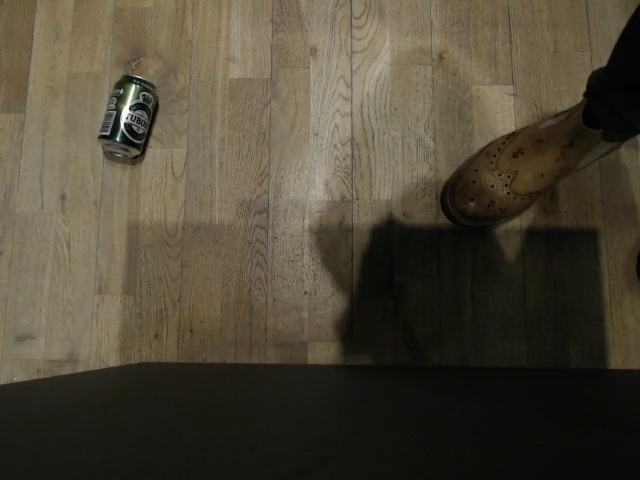beer: (95, 74, 160, 159)
